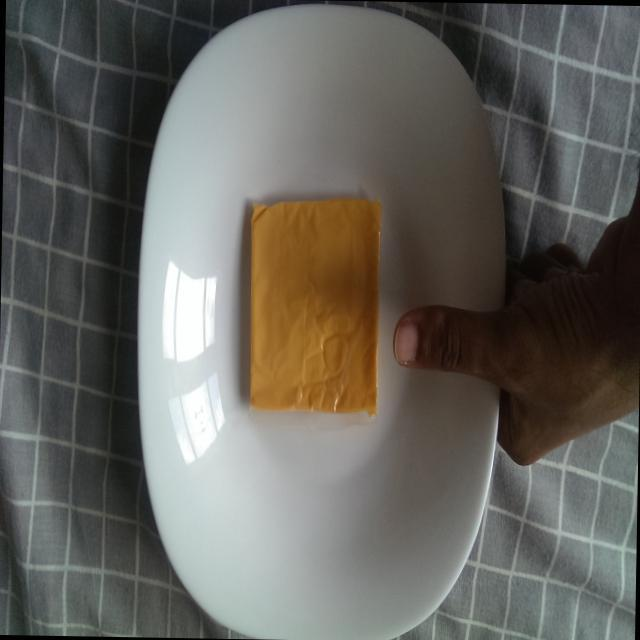Cheese: (238, 188, 388, 428)
Finger: (388, 294, 470, 382)
